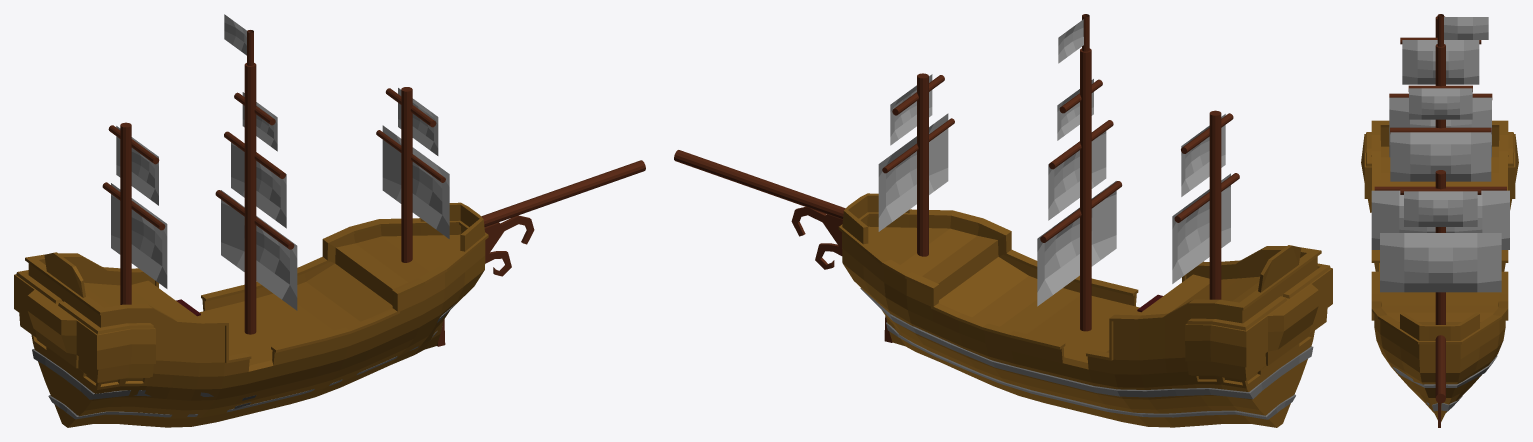
The model's file is Mesh_ShipSmall.fbx.
3 views of the same model, side by side, from view 1: azimuth 30°, elevation 25°; view 2: azimuth 150°, elevation 25°; view 3: azimuth 270°, elevation 25° (orthographic). The views are drawn at different scales.
Parts seen in each view (by area): view 1: Mesh_ShipBody, Mesh_Flag, Mesh_Wood, Mesh_Reinforcement; view 2: Mesh_ShipBody, Mesh_Flag, Mesh_Wood, Mesh_Reinforcement; view 3: Mesh_Flag, Mesh_ShipBody, Mesh_Wood, Mesh_Reinforcement.
Boxes of the visible parts, x1,y1,x2,y2 form: Mesh_ShipBody: (14, 202, 488, 427); Mesh_Flag: (111, 14, 449, 310); Mesh_Wood: (102, 30, 645, 346); Mesh_Reinforcement: (32, 304, 455, 419); Mesh_ShipBody: (838, 193, 1332, 427); Mesh_Flag: (878, 19, 1230, 306); Mesh_Wood: (674, 14, 1239, 342); Mesh_Reinforcement: (860, 288, 1313, 419); Mesh_Flag: (1371, 17, 1509, 292); Mesh_ShipBody: (1361, 120, 1518, 421); Mesh_Wood: (1374, 14, 1506, 427); Mesh_Reinforcement: (1392, 355, 1497, 411).
Size of the model in its own units: 870 by 526 by 218.
Materials: 1 (1 with a texture image).
